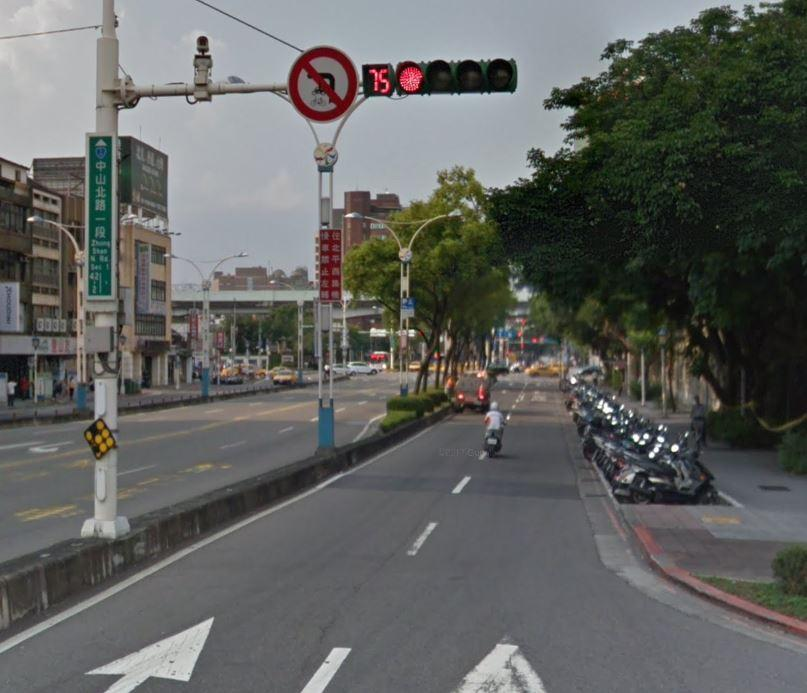red_traffic_light: (362, 60, 518, 94)
